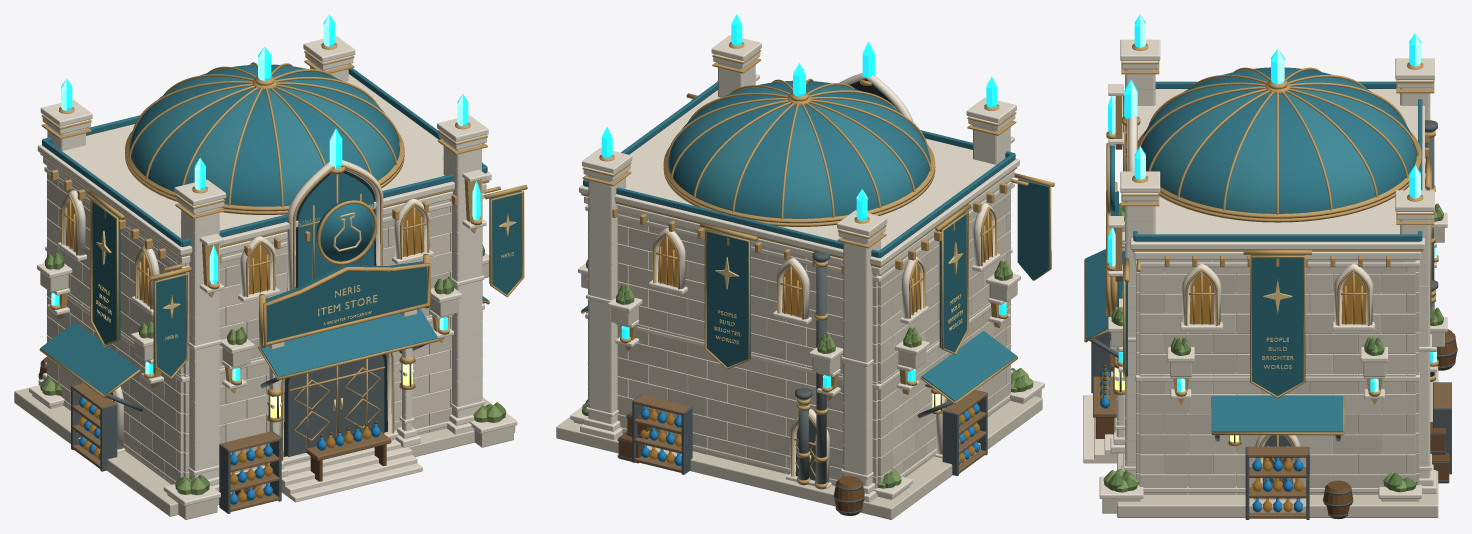
The model's file is Neris-Item-Store.glb.
3 views of the same model, side by side, from view 1: azimuth 30°, elevation 25°; view 2: azimuth 150°, elevation 25°; view 3: azimuth 270°, elevation 25° (orthographic). The views are drawn at different scales.
Visible parts, largest first — view 1: Pale Carved Stone, Teal Enamel Roof, Aged Gold, Neris Teal Banner, Teal Enamel Alternate, Patinated Iron, Limestone Block Tone 4, Ivory Limestone, Limestone Block Tone 2, Limestone Block Tone 1, Limestone Block Tone 3, Walnut Light Grain (+9 smaller); view 2: Pale Carved Stone, Teal Enamel Roof, Aged Gold, Limestone Block Tone 3, Teal Enamel Alternate, Limestone Block Tone 2, Neris Teal Banner, Limestone Block Tone 1, Ivory Limestone, Limestone Block Tone 4, Patinated Iron, Amber Window Glass (+7 smaller); view 3: Pale Carved Stone, Teal Enamel Roof, Aged Gold, Teal Enamel Alternate, Limestone Block Tone 1, Limestone Block Tone 4, Limestone Block Tone 2, Ivory Limestone, Limestone Block Tone 3, Neris Teal Banner, Patinated Iron, Walnut Light Grain (+8 smaller).
Boxes of the visible parts, x1,y1,x2,y2 form: Pale Carved Stone: (29,36,517,505); Teal Enamel Roof: (40,64,488,395); Aged Gold: (39,43,527,460); Neris Teal Banner: (92,191,521,376); Teal Enamel Alternate: (131,64,395,205); Patinated Iron: (38,302,484,513); Limestone Block Tone 4: (47,194,482,474); Ivory Limestone: (14,157,515,519); Limestone Block Tone 2: (47,199,482,484); Limestone Block Tone 1: (47,166,482,478); Limestone Block Tone 3: (47,199,482,472); Walnut Light Grain: (72,383,391,511); Pale Carved Stone: (570,35,1044,502); Teal Enamel Roof: (581,81,1017,401); Aged Gold: (581,42,1054,488); Limestone Block Tone 3: (588,182,1010,482); Teal Enamel Alternate: (668,80,930,218); Limestone Block Tone 2: (588,179,1010,457); Neris Teal Banner: (691,99,1049,367); Limestone Block Tone 1: (588,192,1010,488); Ivory Limestone: (556,76,1042,519); Limestone Block Tone 4: (588,204,1010,474); Patinated Iron: (586,251,987,514); Amber Window Glass: (640,214,991,463); Pale Carved Stone: (1083,39,1447,499); Teal Enamel Roof: (1085,67,1422,432); Aged Gold: (1084,43,1438,485); Teal Enamel Alternate: (1142,67,1416,213); Limestone Block Tone 1: (1136,259,1419,494); Limestone Block Tone 4: (1136,259,1419,494); Limestone Block Tone 2: (1136,259,1419,494); Ivory Limestone: (1102,88,1444,517); Limestone Block Tone 3: (1136,259,1419,494); Neris Teal Banner: (1111,189,1428,395); Patinated Iron: (1089,120,1457,519); Walnut Light Grain: (1093,376,1451,518).
Bounding box in the file's own units: 13.31 × 12.23 × 10.84.
